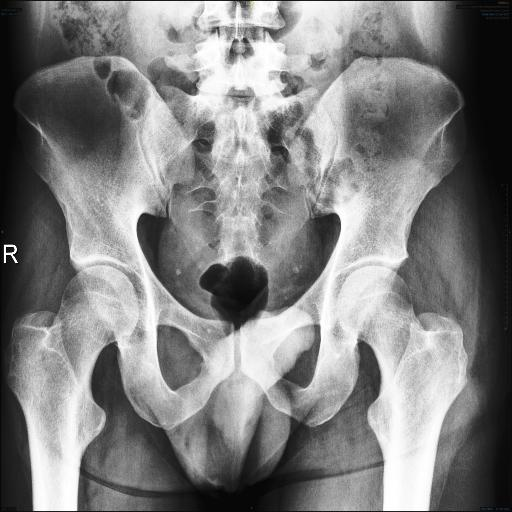normal: (3, 265, 139, 512), (335, 266, 469, 511)
